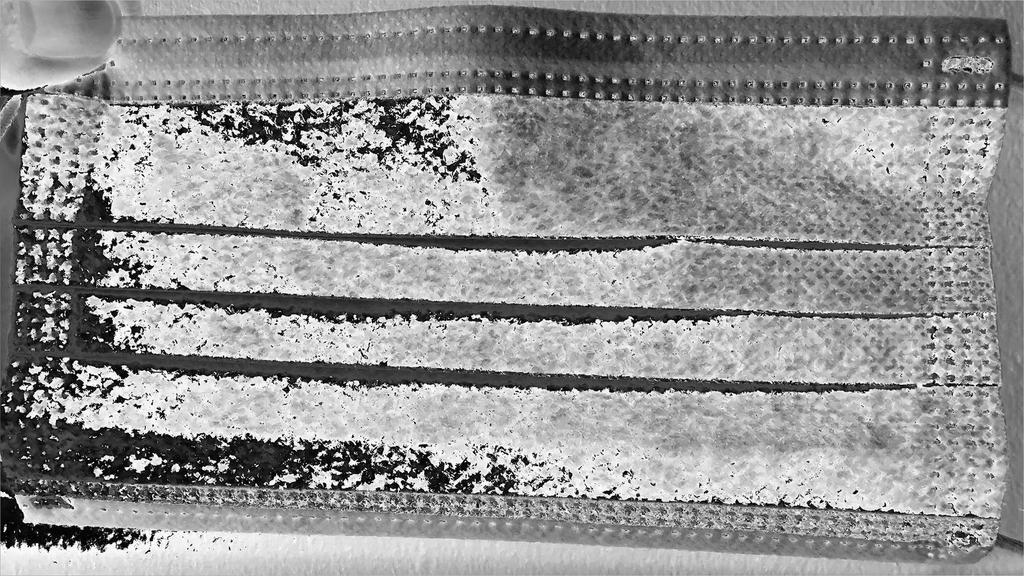High GSM: (5, 96, 1011, 569)
